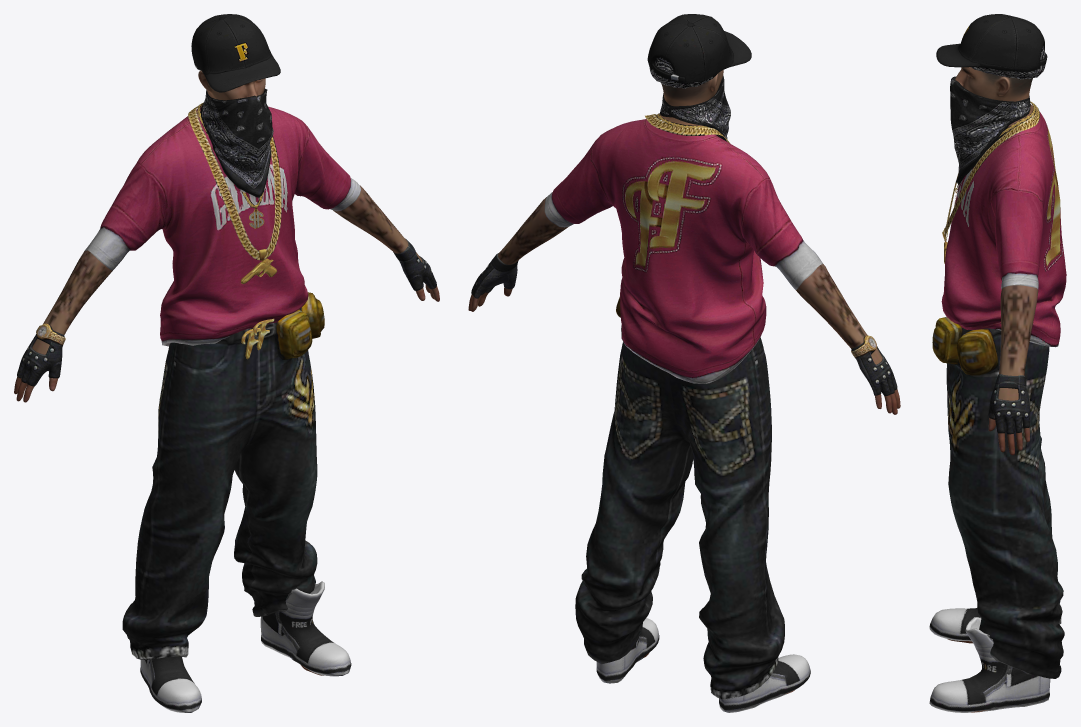
Rendered from free_fire_hip_hop_bundel_3d_model (2).glb.
3 renders of one model, left to right at view 1: azimuth 30°, elevation 25°; view 2: azimuth 150°, elevation 25°; view 3: azimuth 270°, elevation 25°, orthographic.
Parts seen in each view (by area): view 1: Object_4, Object_5, Object_3, Object_2, Object_6; view 2: Object_4, Object_5, Object_2, Object_6, Object_3; view 3: Object_4, Object_5, Object_3, Object_2, Object_6.
Boxes of the visible parts, x1,y1,x2,y2 form: Object_4: [122, 292, 324, 659]; Object_5: [17, 88, 436, 386]; Object_3: [140, 581, 351, 712]; Object_2: [14, 70, 439, 675]; Object_6: [191, 14, 280, 92]; Object_4: [575, 297, 784, 699]; Object_5: [471, 75, 897, 395]; Object_2: [468, 70, 900, 693]; Object_6: [647, 14, 751, 88]; Object_3: [596, 618, 810, 712]; Object_4: [932, 317, 1064, 678]; Object_5: [941, 76, 1066, 434]; Object_3: [929, 608, 1050, 712]; Object_2: [947, 67, 1038, 712]; Object_6: [936, 14, 1047, 79].
Bounding box in the file's own units: 5.87 × 8.73 × 1.66.
5 materials, 5 textured.
